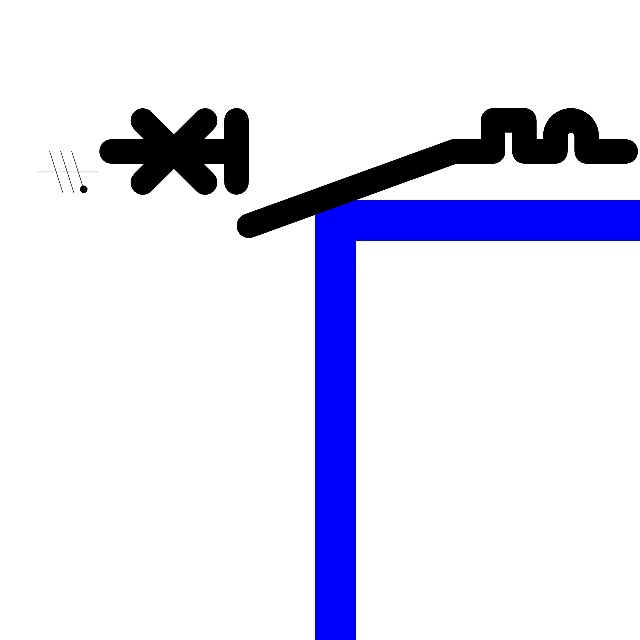interruptor_termomagnetico: (98, 107, 639, 239)
